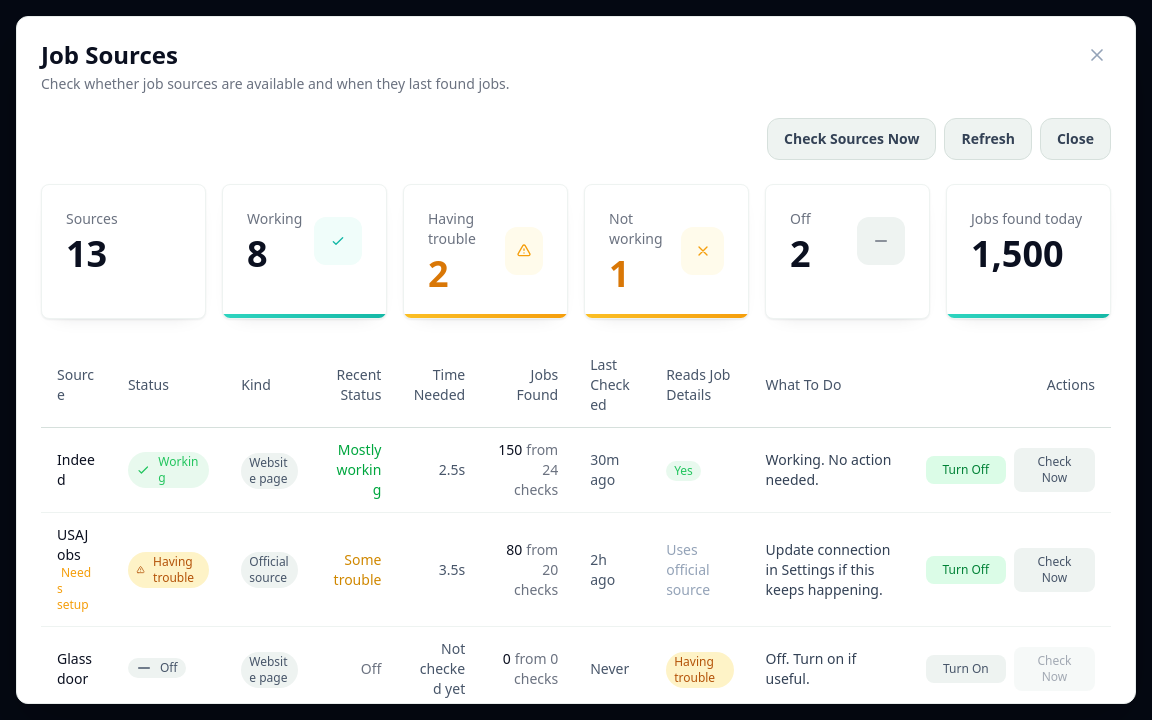
Test: ScraperHealthDashboard source checks › source check all › shows skipped checks as neutral instead of worked
Click the button "Check Sources Now" at (852, 139), box [767, 118, 936, 160]
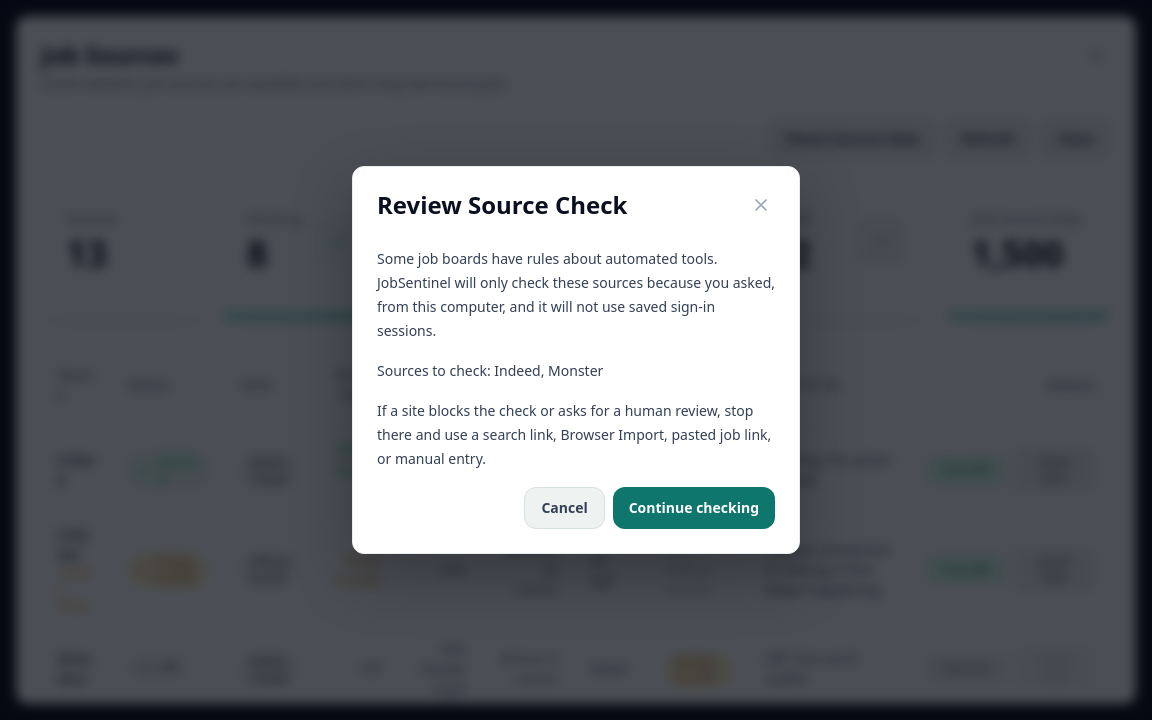
Click the button "Continue checking" at (694, 508), box [613, 487, 775, 529]
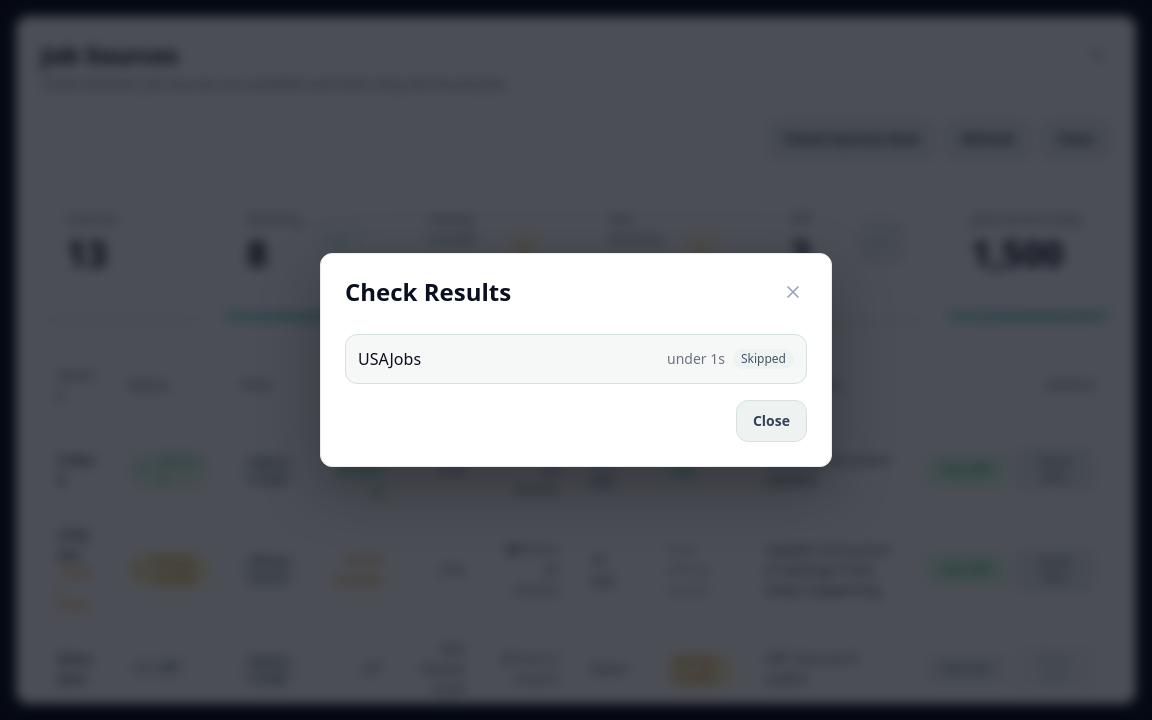
Result: the text "Skipped" is shown at [733, 349, 794, 369]
